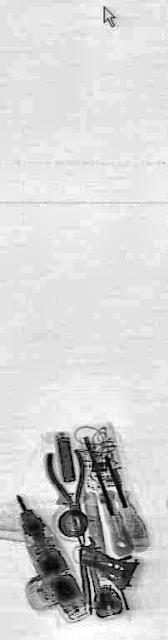Pliers: (44, 398, 94, 580)
Wrench: (80, 522, 106, 618)
